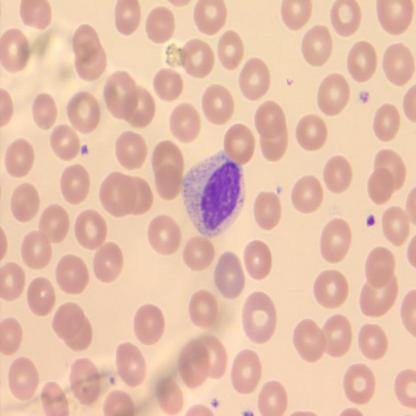Metamyelocyte: (181, 148, 248, 238)
